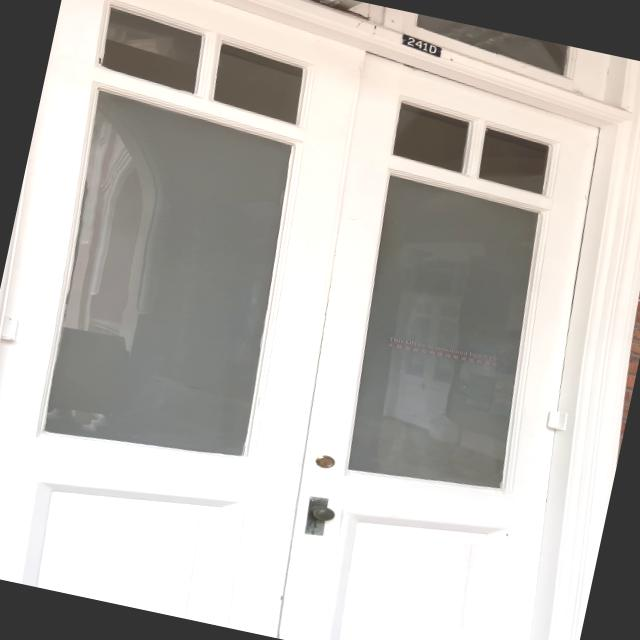room241d: (389, 24, 452, 61)
